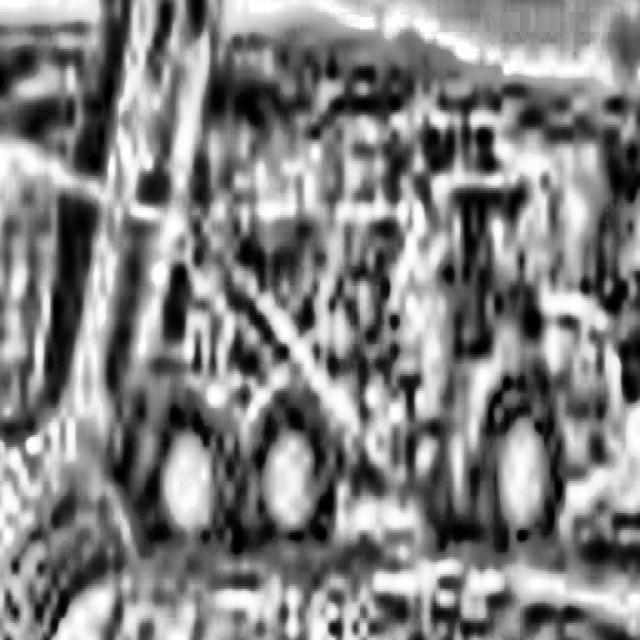dump_truck: (26, 0, 625, 584)
